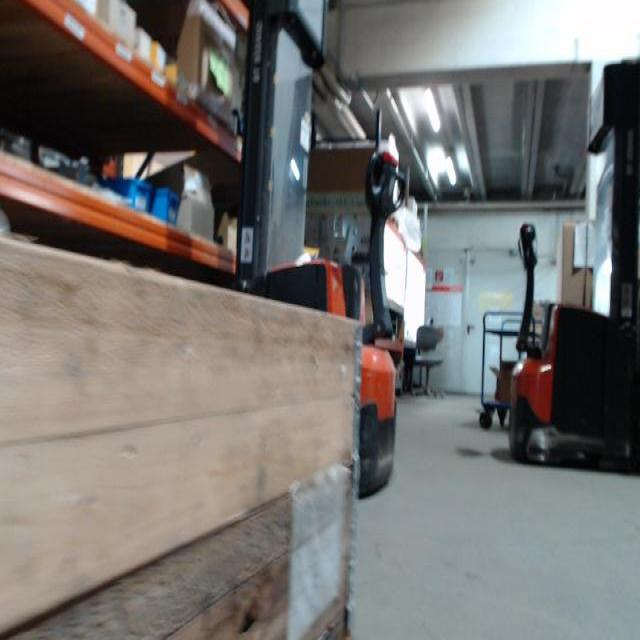pallet_truck: (218, 0, 414, 514), (507, 52, 640, 477)
